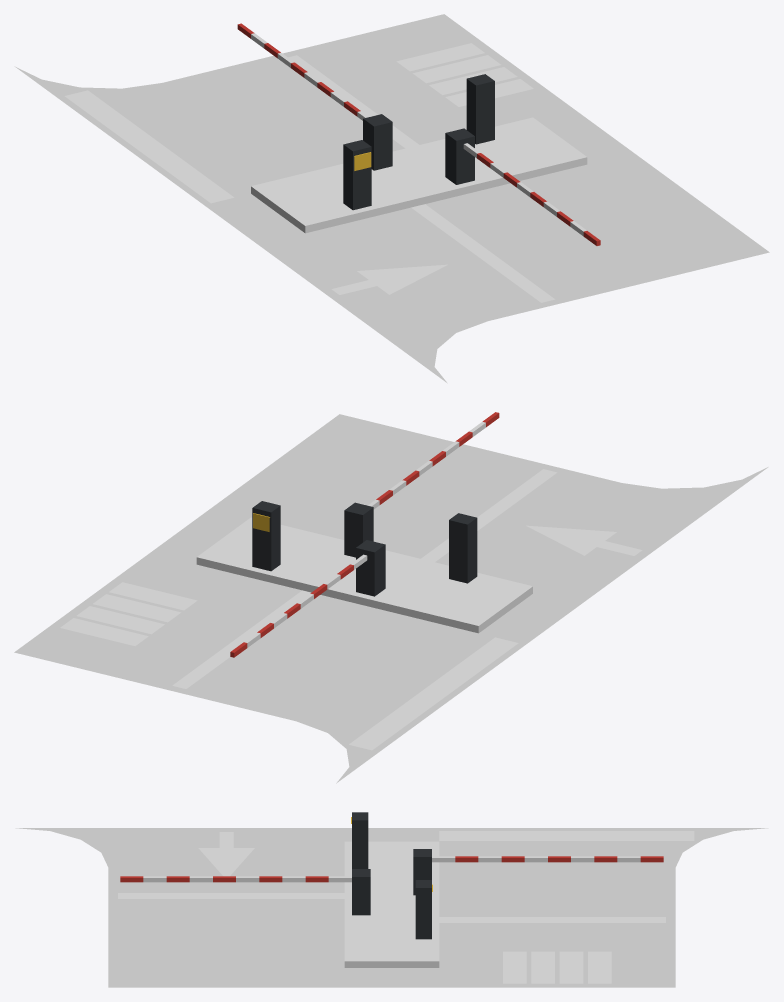
The model's file is carpark_barrier_gate.glb.
3 views of the same model, one above another, from view 1: azimuth 30°, elevation 25°; view 2: azimuth 150°, elevation 25°; view 3: azimuth 270°, elevation 25° (orthographic). The views are drawn at different scales.
Parts seen in each view (by area): view 1: carpark_barrier_gate_lodfar, carpark_barrier_gate, carpark_barrier_gate_markings; view 2: carpark_barrier_gate_lodfar, carpark_barrier_gate, carpark_barrier_gate_markings; view 3: carpark_barrier_gate, carpark_barrier_gate_lodfar, carpark_barrier_gate_markings.
Part boxes in pixels (x1,y1,x2,y2): carpark_barrier_gate_lodfar: [69, 14, 768, 343]; carpark_barrier_gate: [14, 14, 769, 383]; carpark_barrier_gate_markings: [65, 43, 554, 302]; carpark_barrier_gate_lodfar: [15, 414, 715, 743]; carpark_barrier_gate: [14, 412, 768, 783]; carpark_barrier_gate_markings: [60, 469, 642, 750]; carpark_barrier_gate: [15, 812, 768, 987]; carpark_barrier_gate_lodfar: [108, 828, 675, 987]; carpark_barrier_gate_markings: [118, 831, 694, 983].
Bounding box in the file's own units: 8 × 1.35 × 16.
